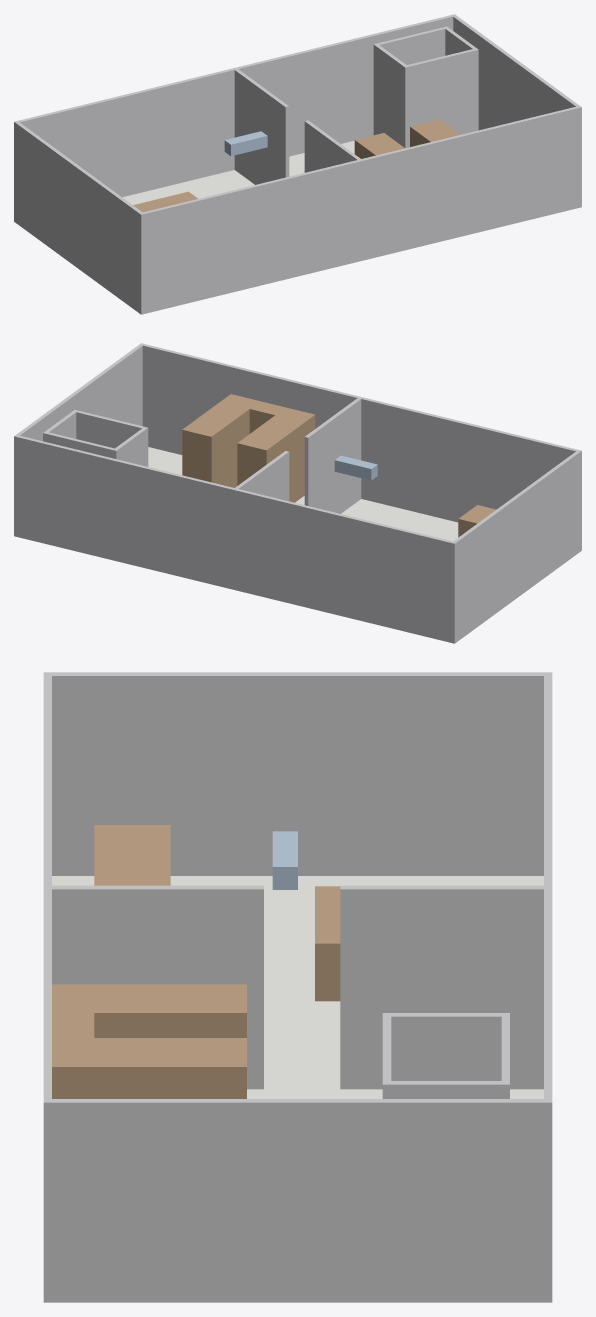
The picture shows the model from 3 angles, top to bottom: view 1: azimuth 30°, elevation 25°; view 2: azimuth 150°, elevation 25°; view 3: azimuth 270°, elevation 25°; orthographic projection. The views are drawn at different scales.
Parts seen in each view (by area): view 1: wall__outer_N, wall__outer_S, wall__outer_W, wall__outer_E, wall__closed_room_N, wall__divider_0, wall__closed_room_W, floor__F0, wall__divider_1, wall__closed_room_S, furniture__cabinet_2, furniture__cabinet_1 (+3 smaller); view 2: wall__outer_S, wall__outer_N, wall__outer_W, wall__divider_1, wall__outer_E, furniture__cabinet_2, furniture__cabinet_1, floor__F0, wall__divider_0, wall__closed_room_N, furniture__cabinet_back, wall__closed_room_S (+4 smaller); view 3: wall__outer_E, wall__outer_W, wall__divider_0, wall__divider_1, floor__F0, furniture__cabinet_2, furniture__cabinet_1, wall__closed_room_W, wall__outer_S, wall__outer_N, furniture__sofa, furniture__table (+4 smaller).
Part boxes in pixels (x1,y1,x2,y2): wall__outer_N: (139,107,581,314); wall__outer_S: (14,14,456,218); wall__outer_W: (14,121,144,314); wall__outer_E: (453,15,581,206); wall__closed_room_N: (403,48,478,148); wall__divider_0: (233,67,289,184); wall__closed_room_W: (375,45,406,146); floor__F0: (122,140,354,204); wall__divider_1: (304,120,363,260); wall__closed_room_S: (373,26,448,135); furniture__cabinet_2: (410,119,459,146); furniture__cabinet_1: (354,133,404,158); wall__outer_S: (14,436,456,643); wall__outer_N: (139,343,581,551); wall__outer_W: (451,450,581,643); wall__divider_1: (304,397,362,513); wall__outer_E: (14,344,143,536); furniture__cabinet_2: (182,394,259,487); furniture__cabinet_1: (237,407,315,502); floor__F0: (148,447,458,541); wall__divider_0: (232,451,289,589); wall__closed_room_N: (73,410,148,466); furniture__cabinet_back: (221,394,315,436); wall__closed_room_S: (43,431,118,459); wall__outer_E: (43,1099,552,1302); wall__outer_W: (43,672,551,875); wall__divider_0: (340,885,544,1089); wall__divider_1: (44,885,263,1089); floor__F0: (52,876,543,1098); furniture__cabinet_2: (52,1038,246,1098); furniture__cabinet_1: (52,984,246,1037); wall__closed_room_W: (391,1013,501,1080); wall__outer_S: (544,672,552,1302); wall__outer_N: (43,672,51,1302); furniture__sofa: (94,825,170,885); furniture__table: (315,886,340,1001).
Size of the model in its own units: 12 by 2.6 by 6.
